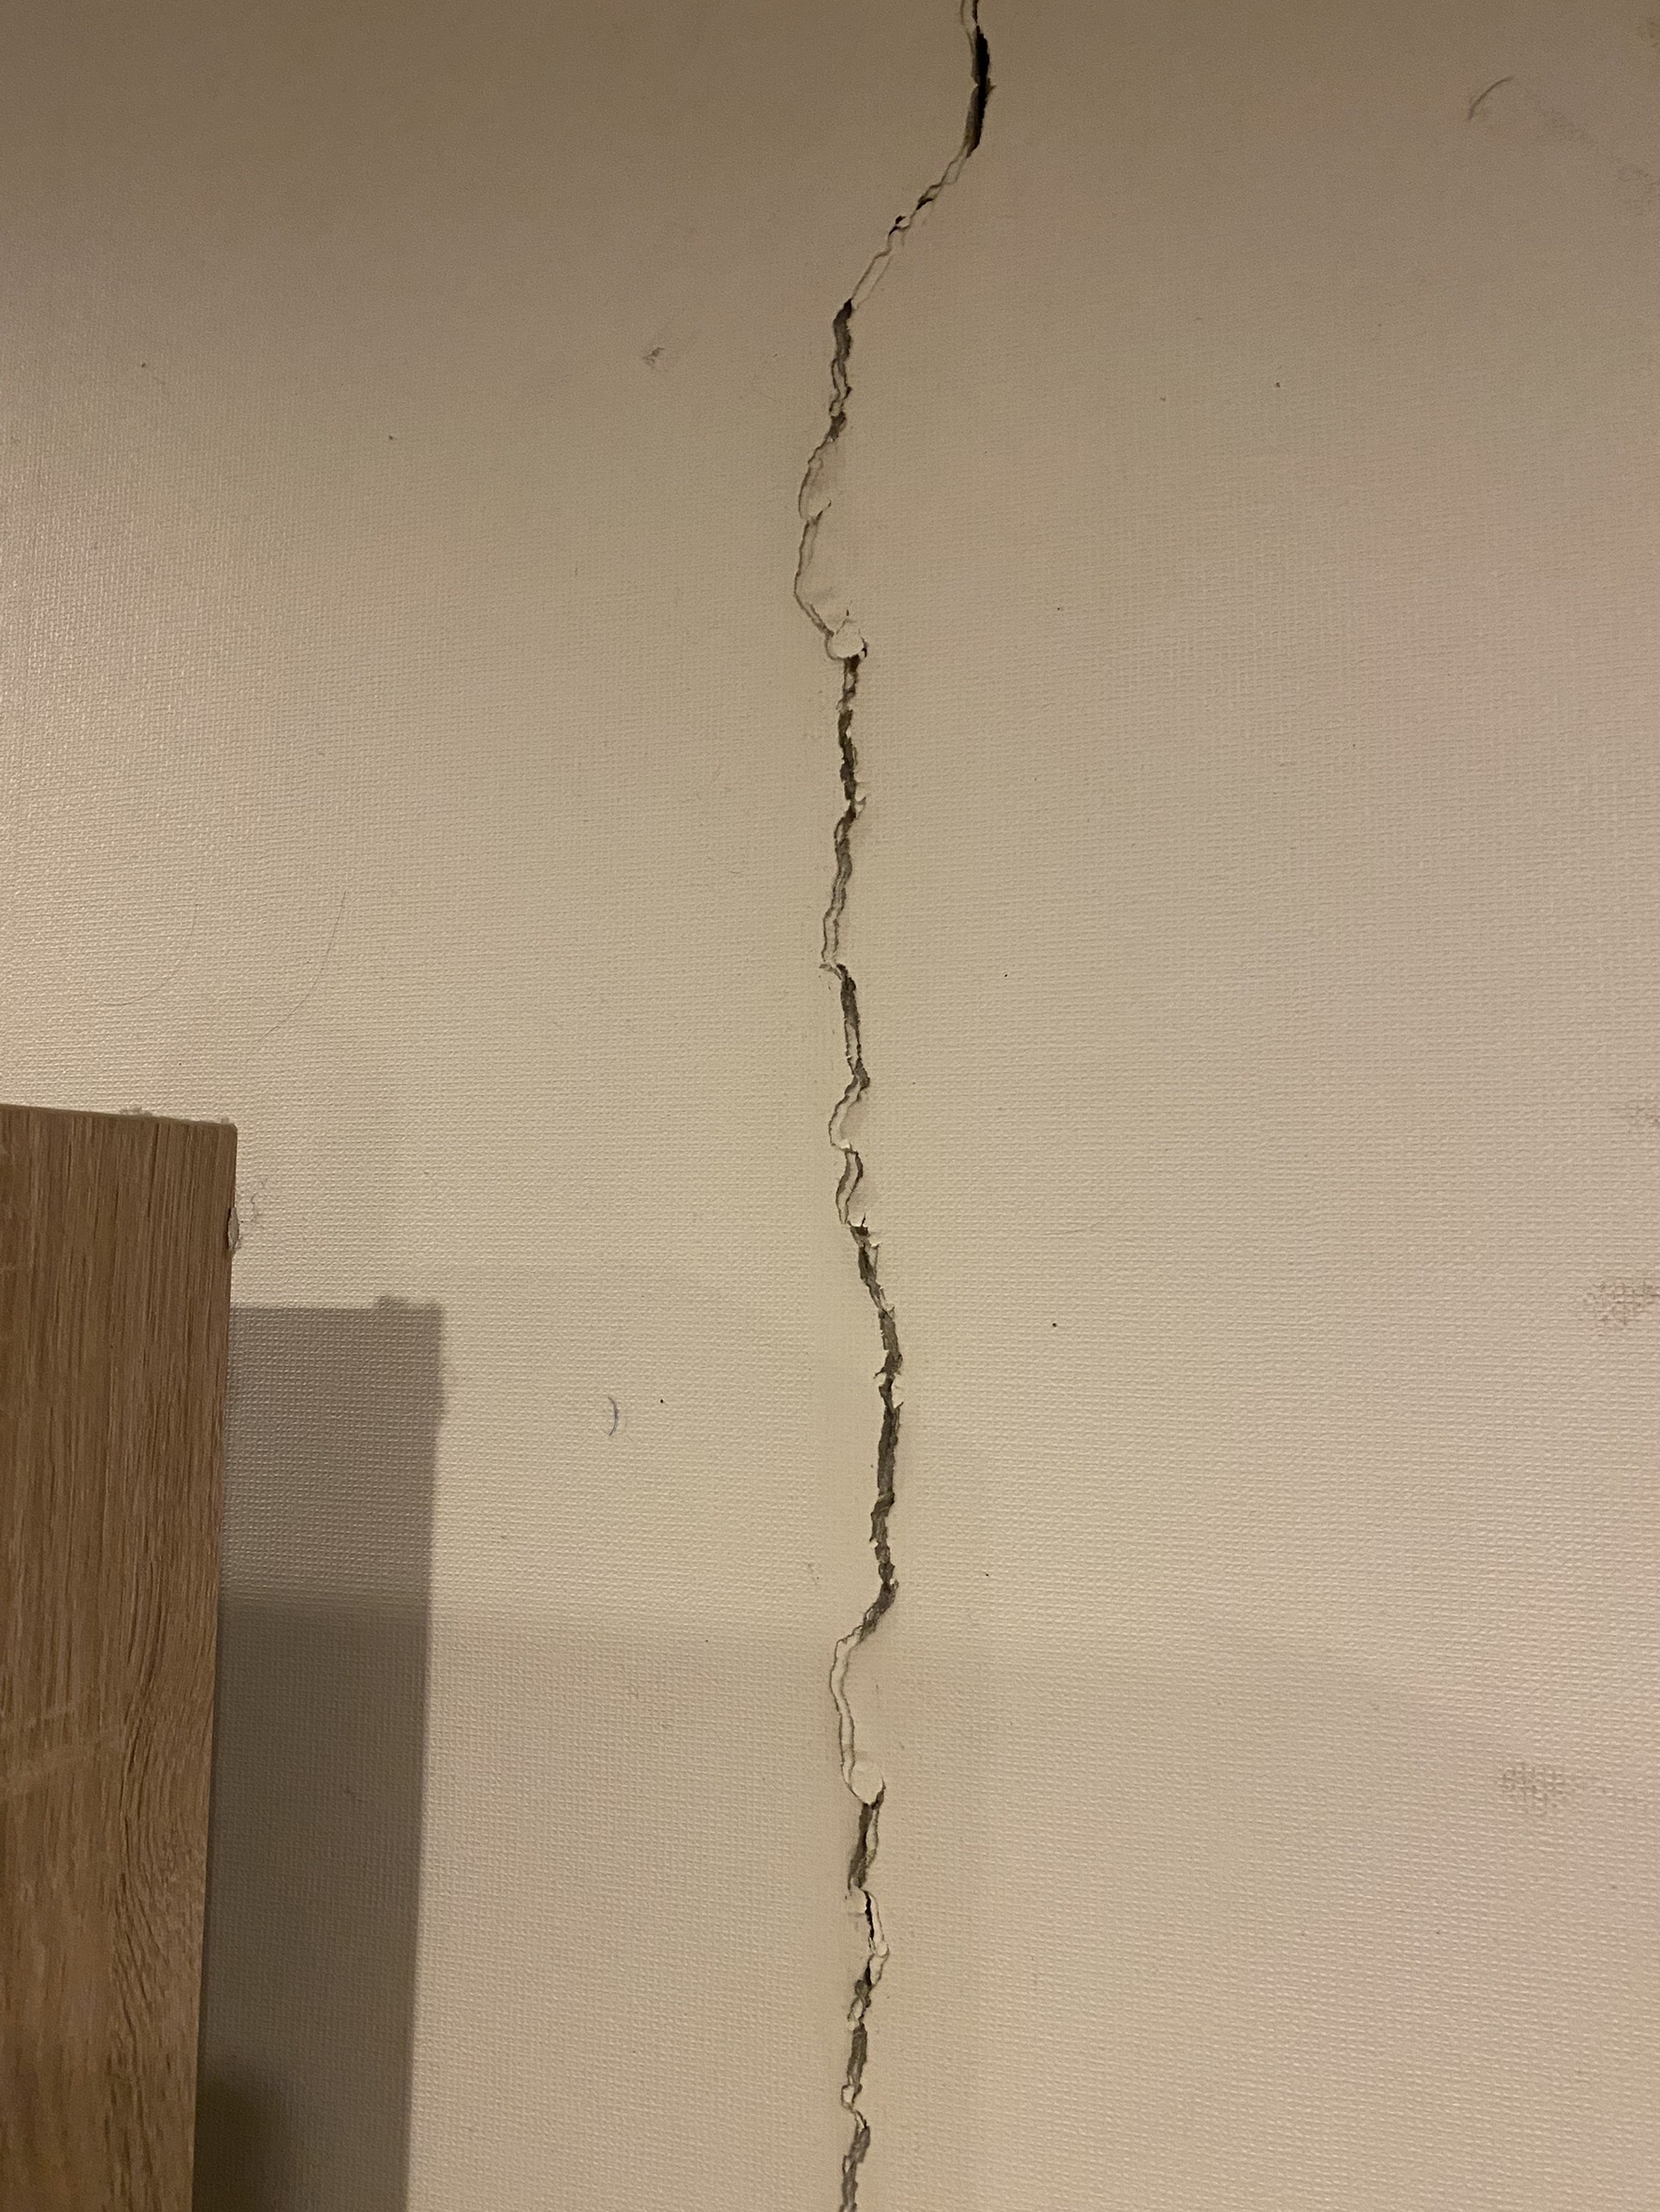Medium: (689, 31, 1076, 2130)
